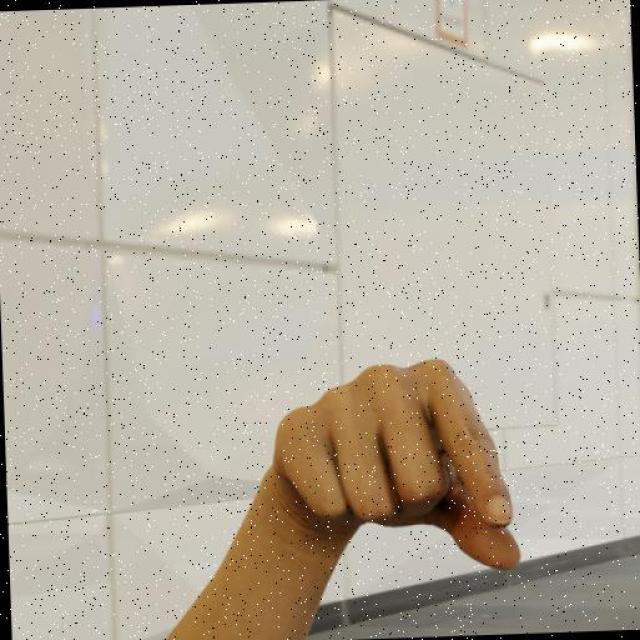Q: (253, 352, 527, 582)
